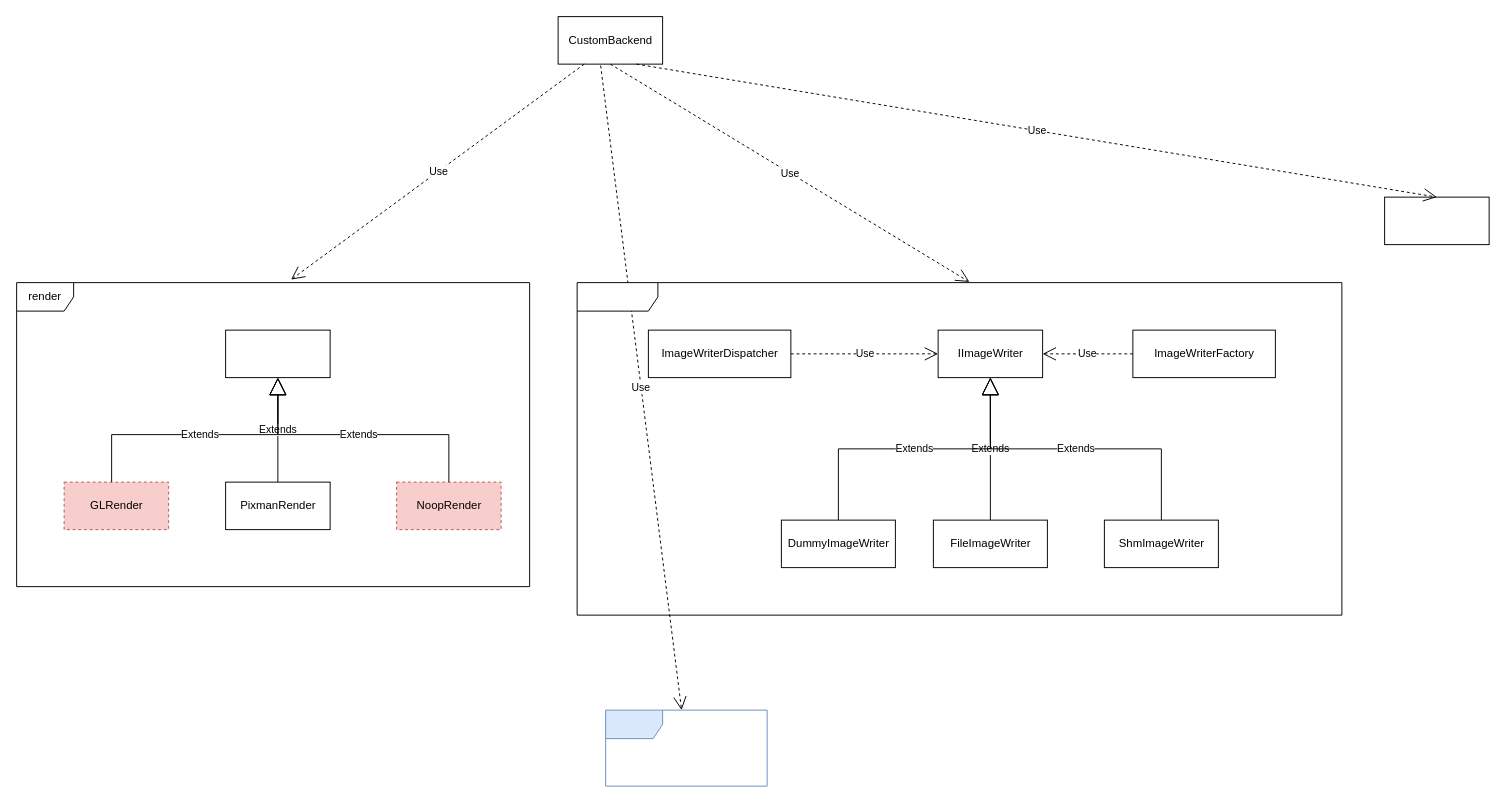
The diagram is 1506 pixels wide and 803 high, and some of its shapes have lost their labels. The shapes that lost their labels are listed below. From the top down, each one's centre as x and y in pixels, then its label:
point 1436,220: InputDevice
point 277,353: IRender
point 959,448: ImageWriter
point 686,747: libweston
